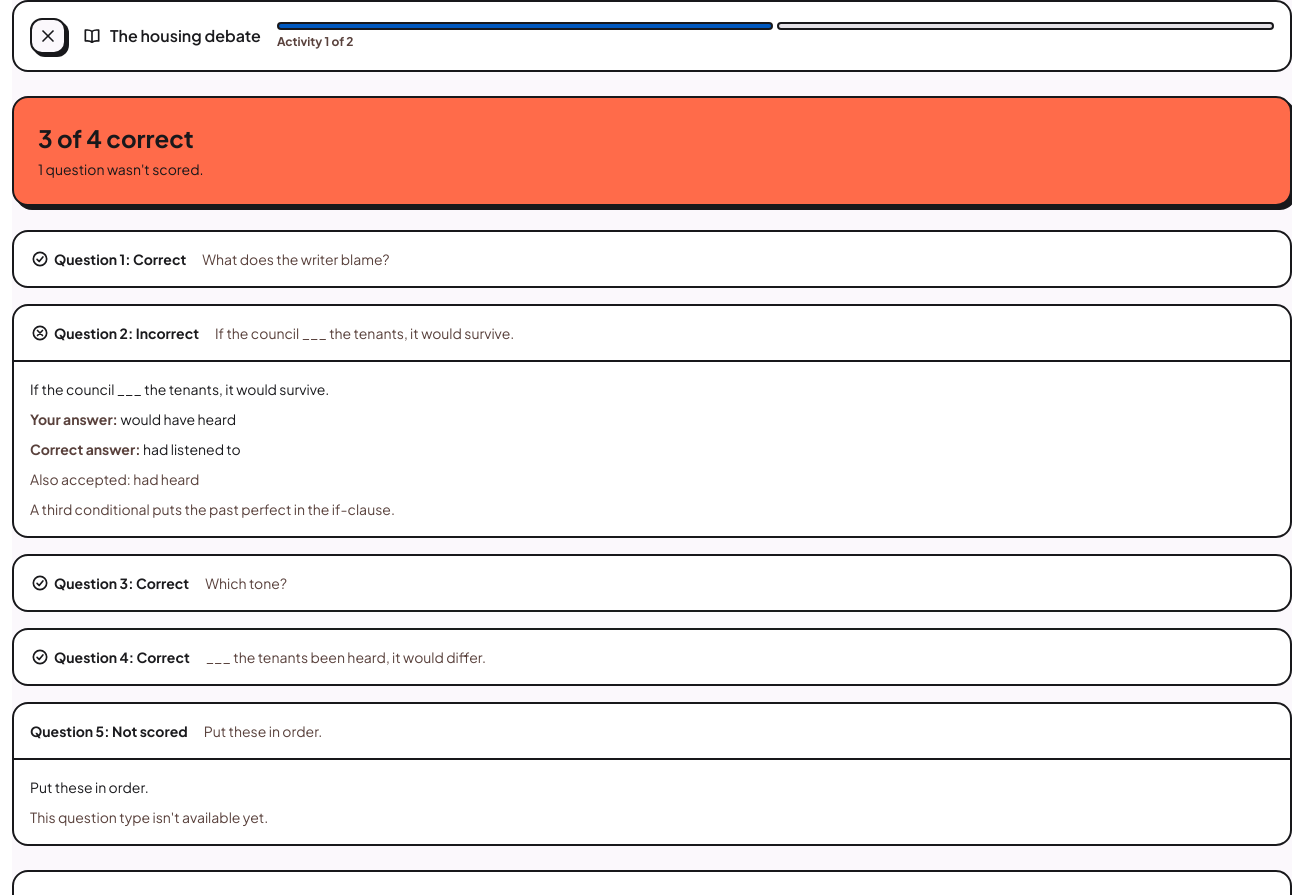
Test: ObjectiveRunner: results and terminal states › results_show_the_answer_the_correct_answer_and_the_explanation
This screenshot has width=1304, height=895.
Check: the heading "3 of 4 correct" is shown, box [38,123,194,153]
Check: the text "would have heard" is shown, box [120,410,236,428]
Click the button "Question 1: Correct What does the writer blame?" at (87, 259), box [14,232,1290,286]
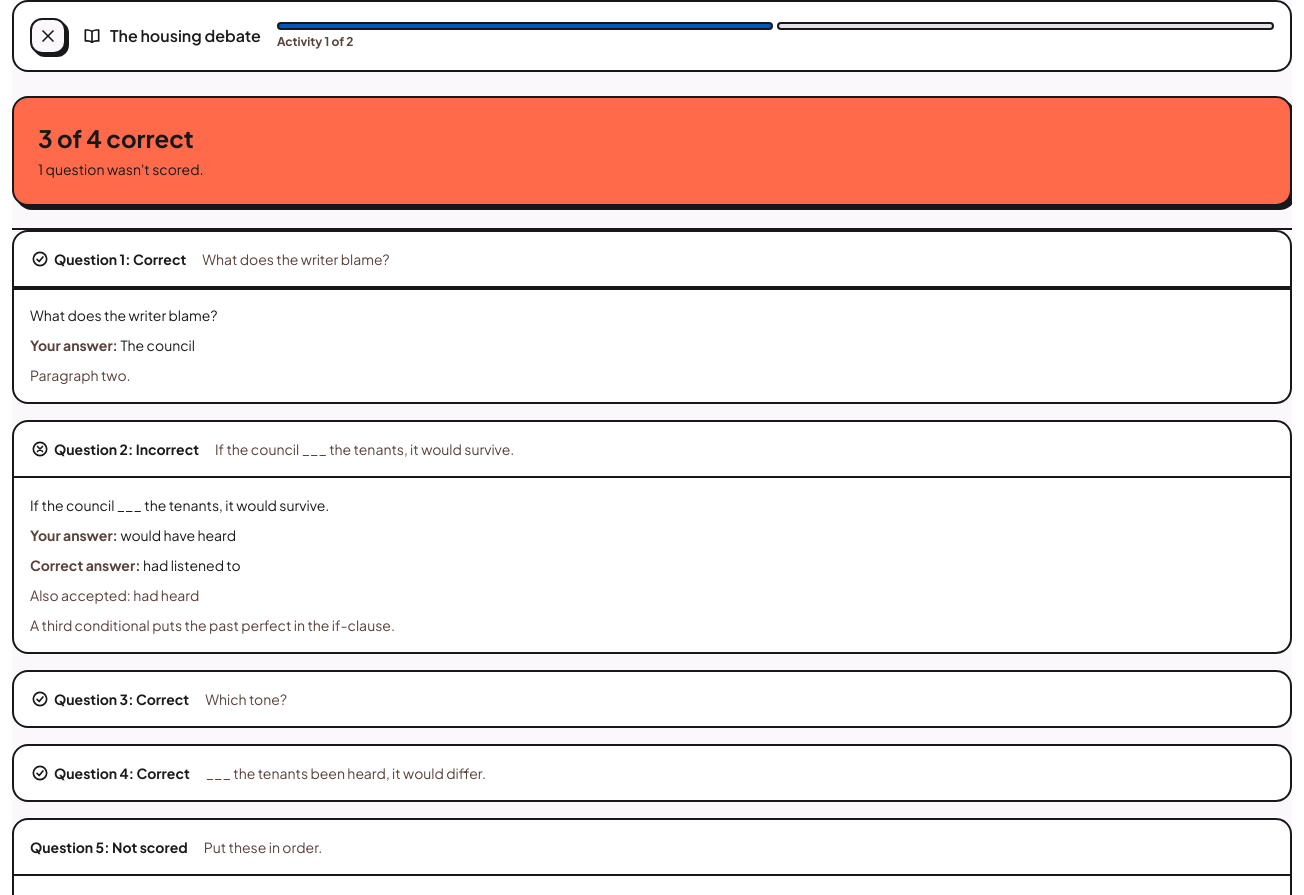
Check: the text "Paragraph two." is shown, box [30,366,131,384]
